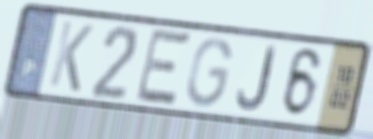2: (89, 22, 143, 103)
6: (278, 46, 325, 120)
E: (132, 26, 195, 108)
G: (184, 35, 235, 110)
J: (235, 43, 279, 114)
K: (46, 18, 96, 96)
